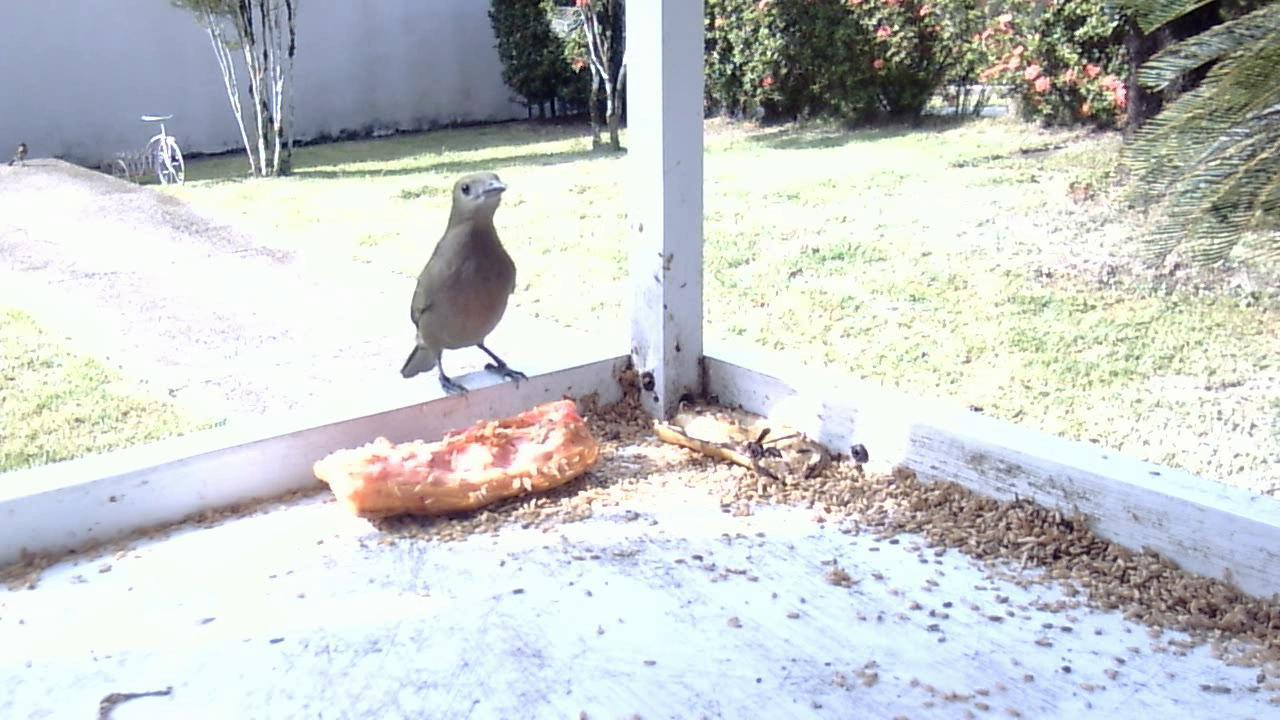sanhaco_do_coqueiro: (394, 170, 529, 403)
